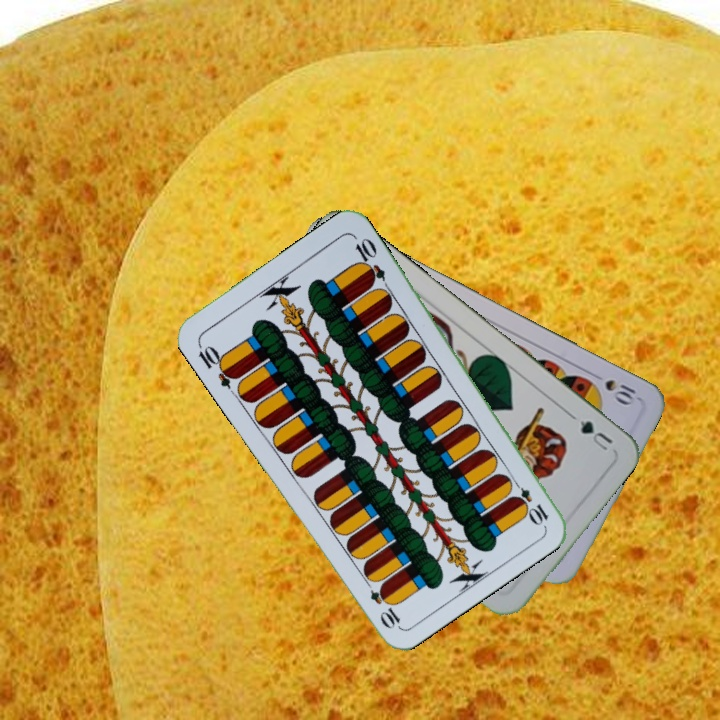E10: (194, 339, 241, 391), (506, 474, 551, 527)
GU: (575, 416, 616, 454)
S10: (600, 375, 641, 408)
